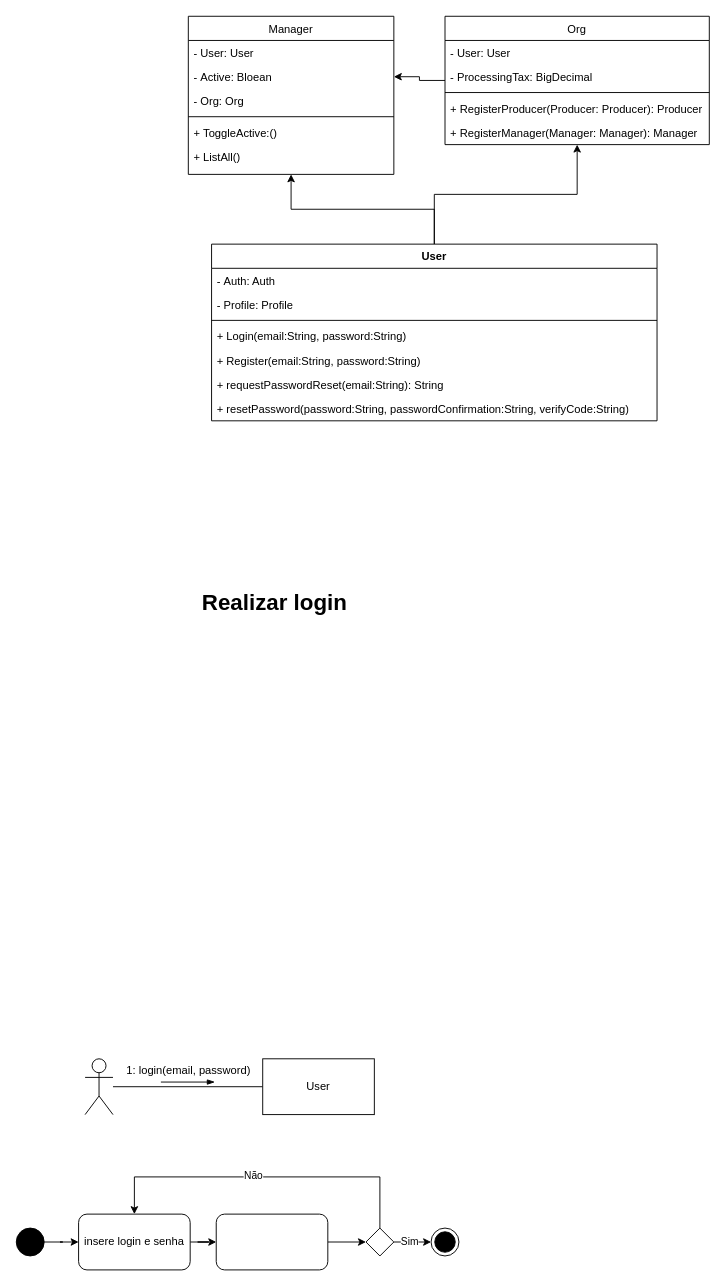
This 726x1286 diagram has some shape labels left out. Here are the shapes that lost their labels. From the top down, the centre of each, then its label:
At point (98, 1086): "Manager/Org".
At point (271, 1241): "sistema verifica se as credenciais foram passadas corretamente".
